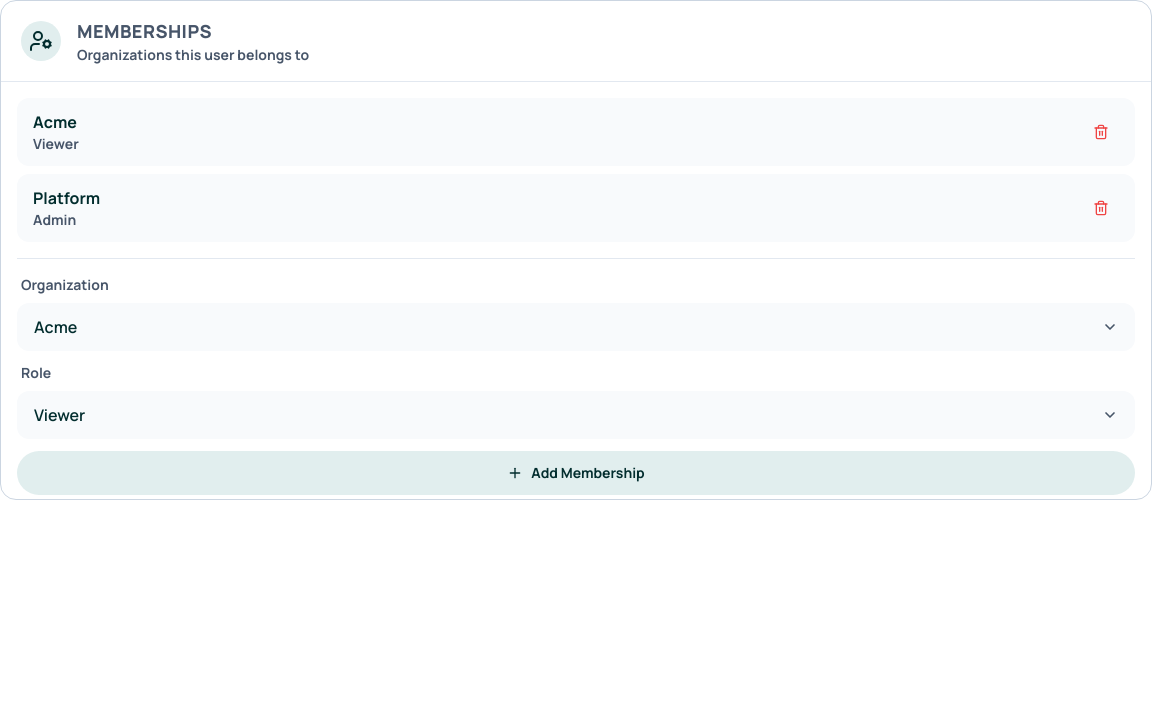
Test: MembershipsPanel › starts regular admins with organization roles
Click the dropdown named "Role": x=60, y=415 [17,391,1135,439]
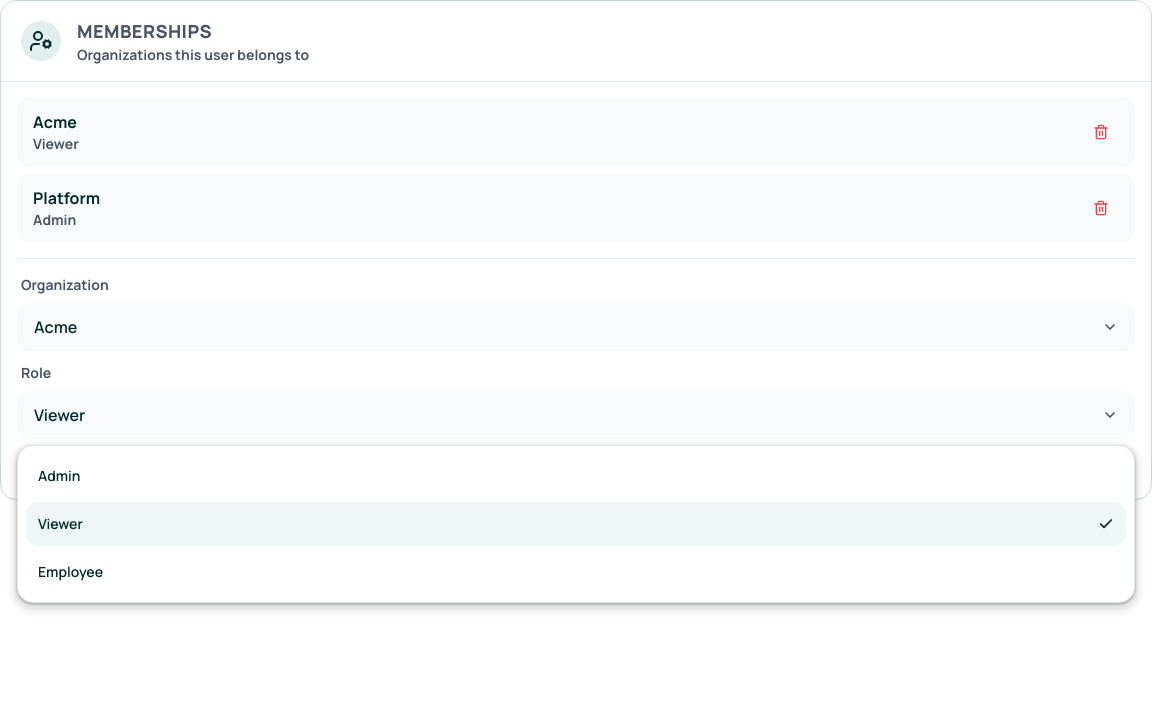
Expected: the option "Admin" is shown, [26,454,1126,498]
Expected: the option "Viewer" is shown, [26,502,1126,546]
Expected: the option "Employee" is shown, [26,550,1126,594]
